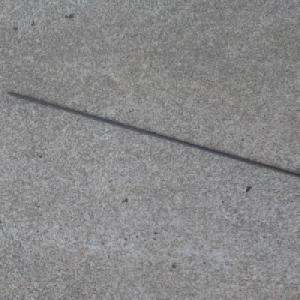LuggagePart: (5, 91, 300, 178)
